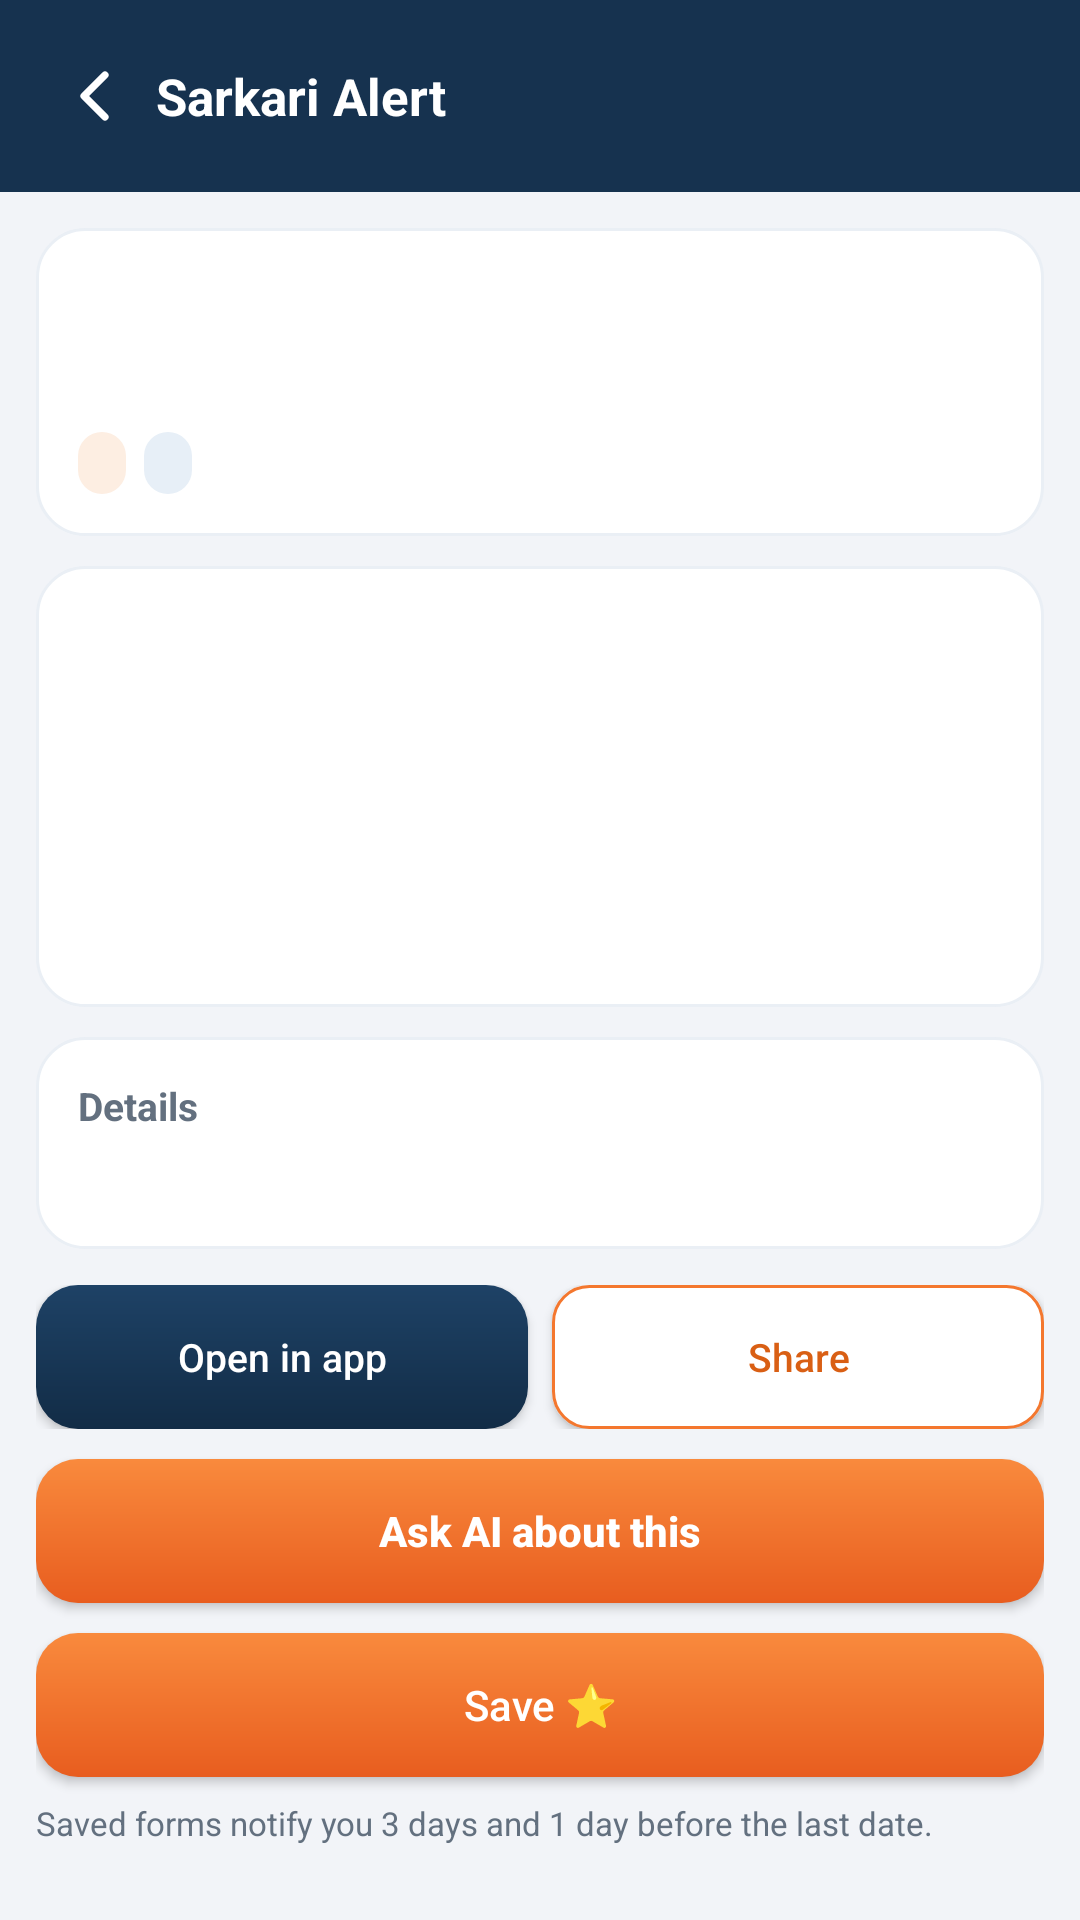

Where icons sit on this 1080 × 1920 app screen, as (x1, y1, x2, y2):
Back: (80, 71, 109, 121)
